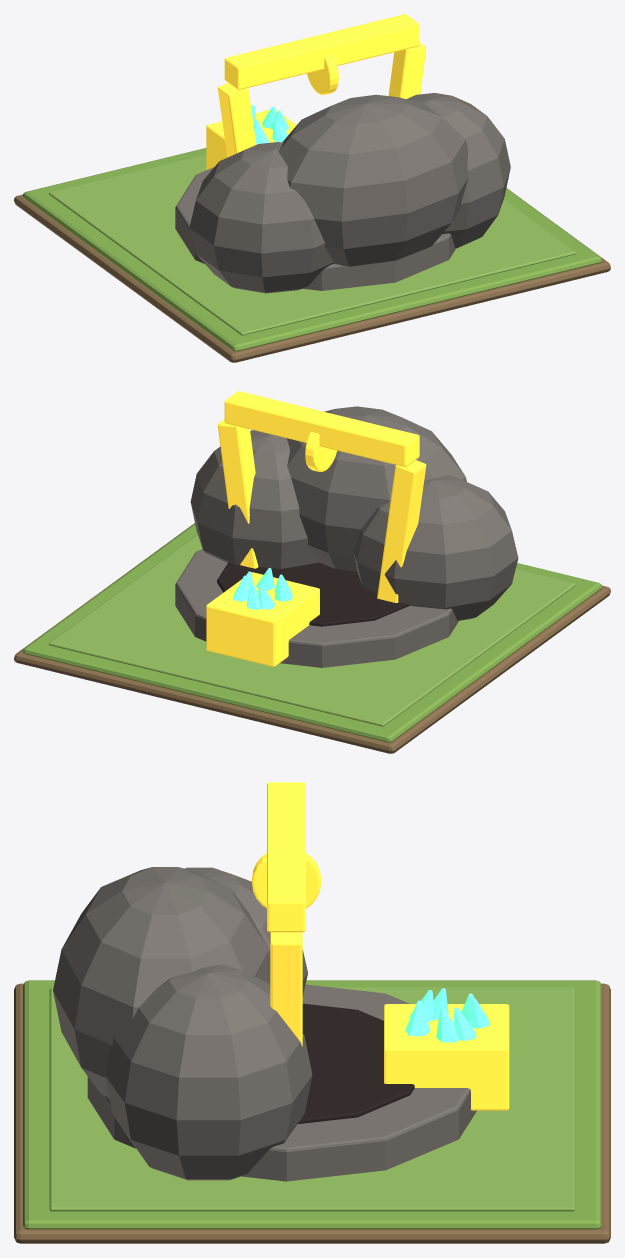
File: gem_mine_lv6.glb
3 renders of one model, top to bottom at view 1: azimuth 30°, elevation 25°; view 2: azimuth 150°, elevation 25°; view 3: azimuth 270°, elevation 25°, orthographic. The views are drawn at different scales.
Visible parts, largest first — view 1: GemRock_2, Base_Inner, GemRock_0, Base_Grass, Base_Dirt, GemHoistBeam, GemRock_1, QuarryPitRim, GemHoistPost_-1, GemHoistPost_1, GemCartBody, GemPulley; view 2: Base_Inner, GemRock_0, Base_Grass, GemRock_2, GemRock_1, QuarryPitRim, Base_Dirt, GemHoistBeam, GemCartBody, QuarryPitHole, GemHoistPost_-1, GemHoistPost_1 (+1 smaller); view 3: Base_Inner, GemRock_1, Base_Grass, GemRock_2, QuarryPitRim, Base_Dirt, GemCartBody, QuarryPitHole, GemHoistBeam, GemHoistPost_1, GemRock_0, GemPulley.
Boxes of the visible parts, left/top/right/bottom form: GemRock_2: left=278, top=94, right=468, bottom=266; Base_Inner: left=49, top=154, right=575, bottom=335; GemRock_0: left=189, top=142, right=333, bottom=293; Base_Grass: left=23, top=148, right=601, bottom=351; Base_Dirt: left=14, top=188, right=610, bottom=362; GemHoistBeam: left=224, top=14, right=419, bottom=89; GemRock_1: left=406, top=93, right=510, bottom=248; QuarryPitRim: left=175, top=167, right=455, bottom=290; GemHoistPost_-1: left=217, top=83, right=256, bottom=157; GemHoistPost_1: left=388, top=42, right=426, bottom=98; GemCartBody: left=206, top=109, right=296, bottom=169; GemPulley: left=307, top=55, right=338, bottom=94; Base_Inner: left=49, top=534, right=575, bottom=726; GemRock_0: left=353, top=475, right=518, bottom=620; Base_Grass: left=23, top=523, right=601, bottom=742; GemRock_2: left=286, top=406, right=466, bottom=571; GemRock_1: left=190, top=430, right=319, bottom=568; QuarryPitRim: left=175, top=549, right=458, bottom=667; Base_Dirt: left=14, top=523, right=610, bottom=753; GemHoistBeam: left=224, top=391, right=419, bottom=466; GemCartBody: left=206, top=572, right=319, bottom=666; QuarryPitHole: left=217, top=562, right=409, bottom=626; GemHoistPost_-1: left=377, top=460, right=426, bottom=602; GemHoistPost_1: left=217, top=419, right=258, bottom=568; Base_Inner: left=49, top=987, right=575, bottom=1211; GemRock_1: left=105, top=964, right=312, bottom=1180; Base_Grass: left=23, top=980, right=601, bottom=1229; GemRock_2: left=53, top=867, right=270, bottom=1096; QuarryPitRim: left=87, top=984, right=476, bottom=1181; Base_Dirt: left=14, top=983, right=610, bottom=1243; GemCartBody: left=384, top=1004, right=509, bottom=1110; QuarryPitHole: left=298, top=1003, right=414, bottom=1123; GemHoistBeam: left=267, top=782, right=305, bottom=932; GemHoistPost_1: left=270, top=932, right=302, bottom=1046; GemRock_0: left=185, top=867, right=307, bottom=995; GemPulley: left=252, top=853, right=320, bottom=908.
Size of the model in its own units: 2.76 by 1.44 by 2.76.
